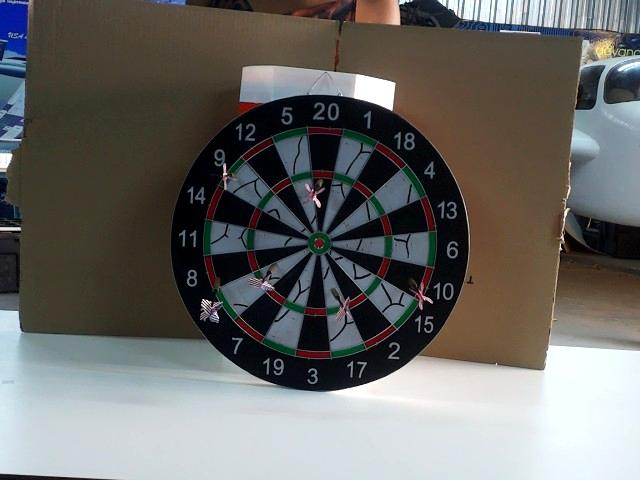single_10: (385, 261, 426, 297)
single_16: (256, 249, 310, 285)
single_17: (321, 255, 345, 308)
single_20: (312, 180, 331, 231)
single_8: (213, 252, 257, 287)
single_9: (227, 165, 265, 205)
